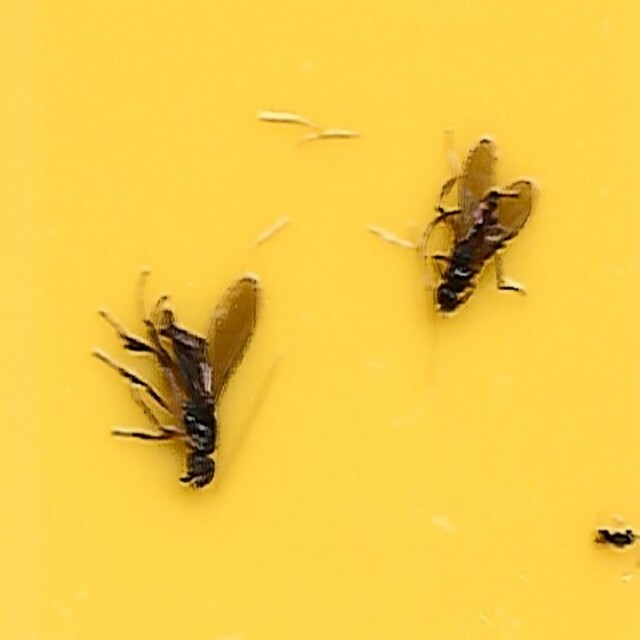Brachycera: (98, 281, 261, 499), (430, 141, 542, 308)
